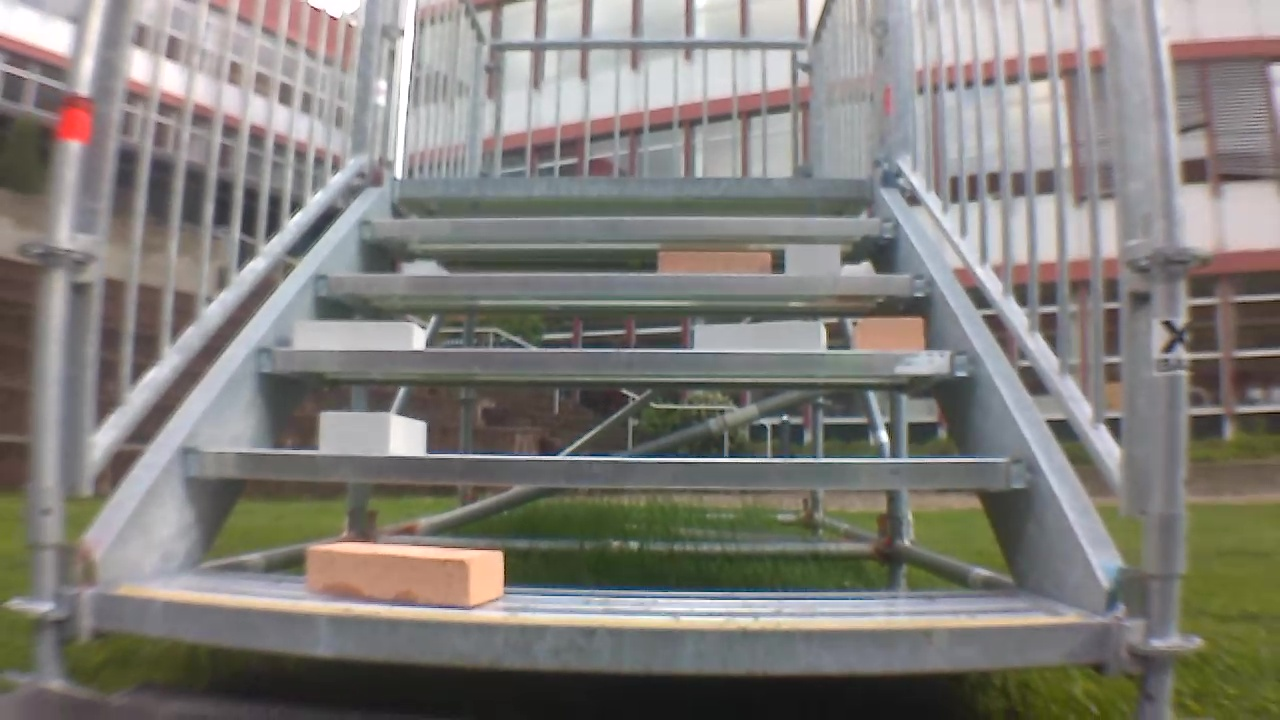brick: (305, 543, 504, 606), (320, 410, 425, 456), (696, 321, 826, 350), (295, 321, 425, 348), (659, 250, 769, 272), (859, 319, 923, 348), (784, 245, 838, 274)
edge: (92, 591, 1103, 673), (186, 450, 1036, 486), (258, 348, 976, 375), (311, 273, 932, 295), (359, 218, 901, 236), (399, 178, 877, 197)
stairs: (16, 6, 1212, 712)
steps: (85, 171, 1110, 684)
